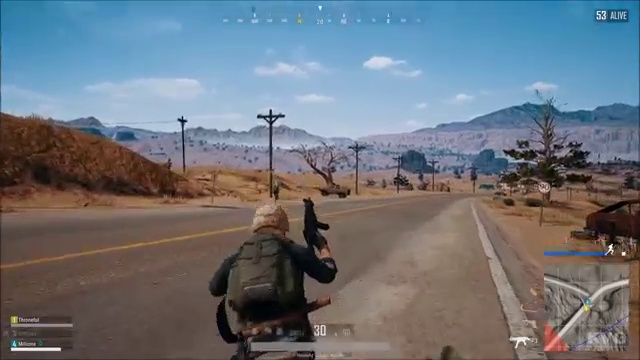Player: (192, 186, 375, 323)
